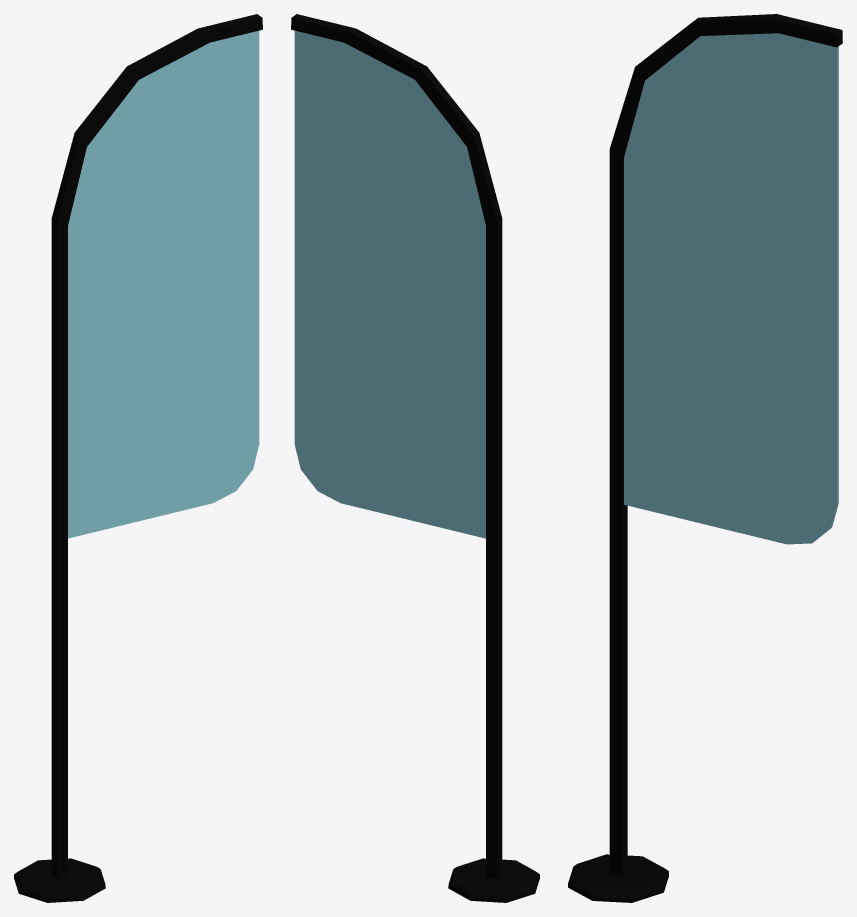
File: Beach.Flag.fbx
3 views of the same model, side by side, from view 1: azimuth 30°, elevation 25°; view 2: azimuth 150°, elevation 25°; view 3: azimuth 330°, elevation 25° (orthographic). The views are drawn at different scales.
Visible parts, largest first — view 1: BeachFlag_Geo; view 2: BeachFlag_Geo; view 3: BeachFlag_Geo.
Boxes of the visible parts, x1,y1,x2,y2 form: BeachFlag_Geo: (14,14,262,902); BeachFlag_Geo: (291,14,539,902); BeachFlag_Geo: (568,14,842,902).
Size of the model in its own units: 358 by 1160 by 122.
